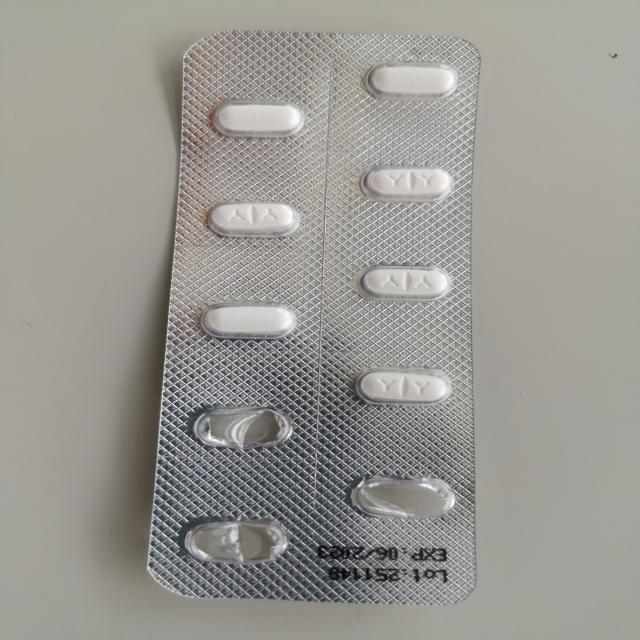Empty: (173, 515, 295, 570), (343, 469, 458, 524), (182, 401, 299, 455)
Pill: (350, 364, 456, 413), (199, 196, 307, 244), (193, 295, 297, 344), (202, 98, 310, 142), (359, 58, 462, 104), (356, 260, 456, 307), (358, 161, 457, 204)
